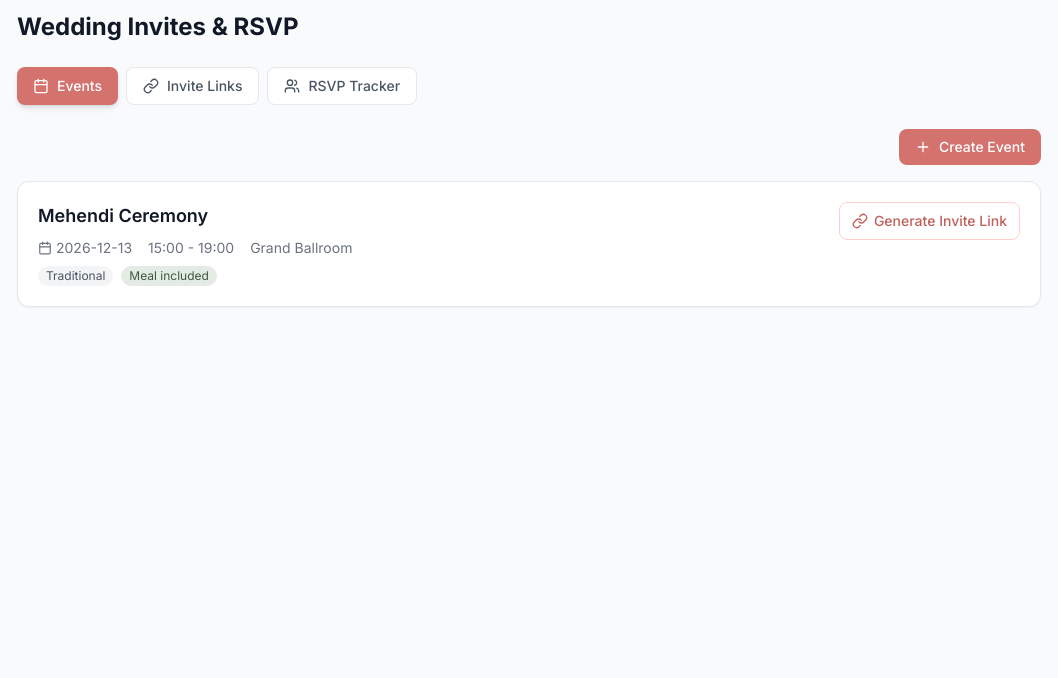
Test: WeddingInvites Screen › "Create Event" button opens form
Click the button "Create Event". click: (970, 147)
box: [899,129,1041,165]
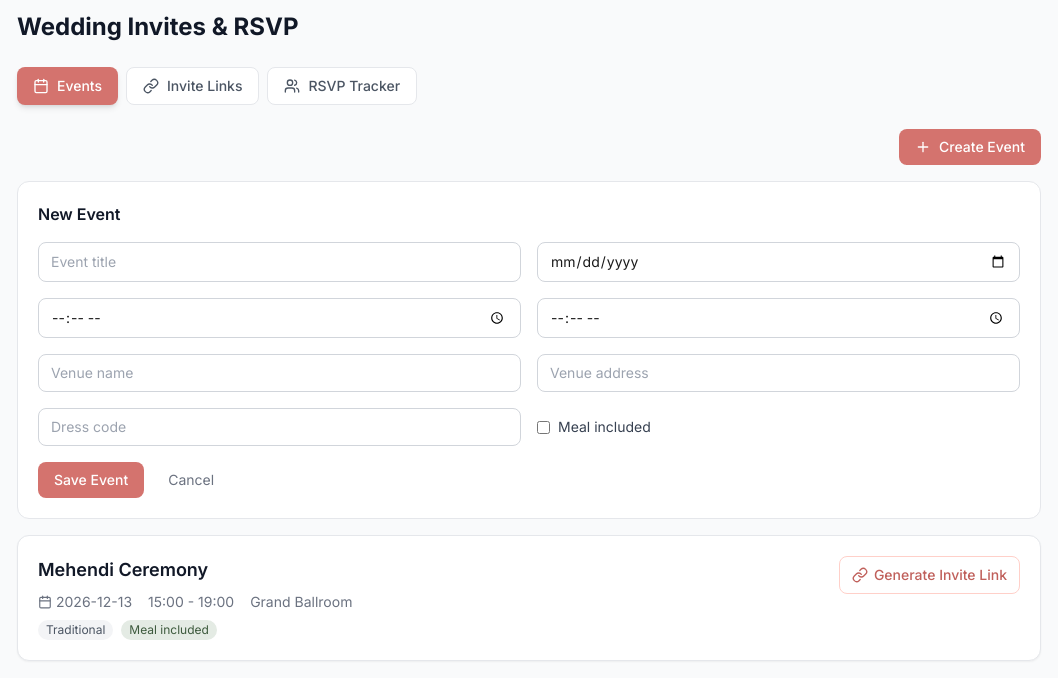
Expected: the field with placeholder "Event title" is shown, [38,242,521,282]
